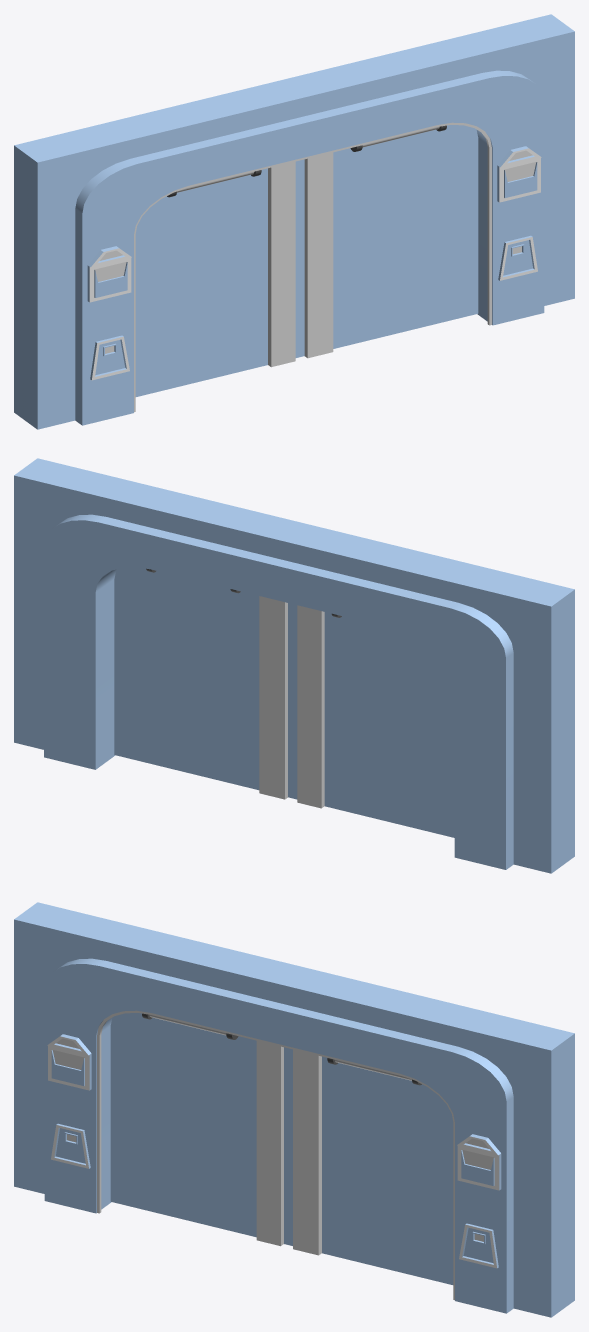
The model's file is door2.fbx.
The picture shows the model from 3 angles, top to bottom: view 1: azimuth 30°, elevation 25°; view 2: azimuth 150°, elevation 25°; view 3: azimuth 330°, elevation 25°; orthographic projection.
Parts seen in each view (by area): view 1: polySurface15; view 2: polySurface15; view 3: polySurface15.
Boxes of the visible parts, x1,y1,x2,y2 form: polySurface15: [14, 14, 574, 429]; polySurface15: [14, 458, 574, 873]; polySurface15: [14, 902, 574, 1317].
Size of the model in its own units: 34.7 by 16.48 by 4.61.
